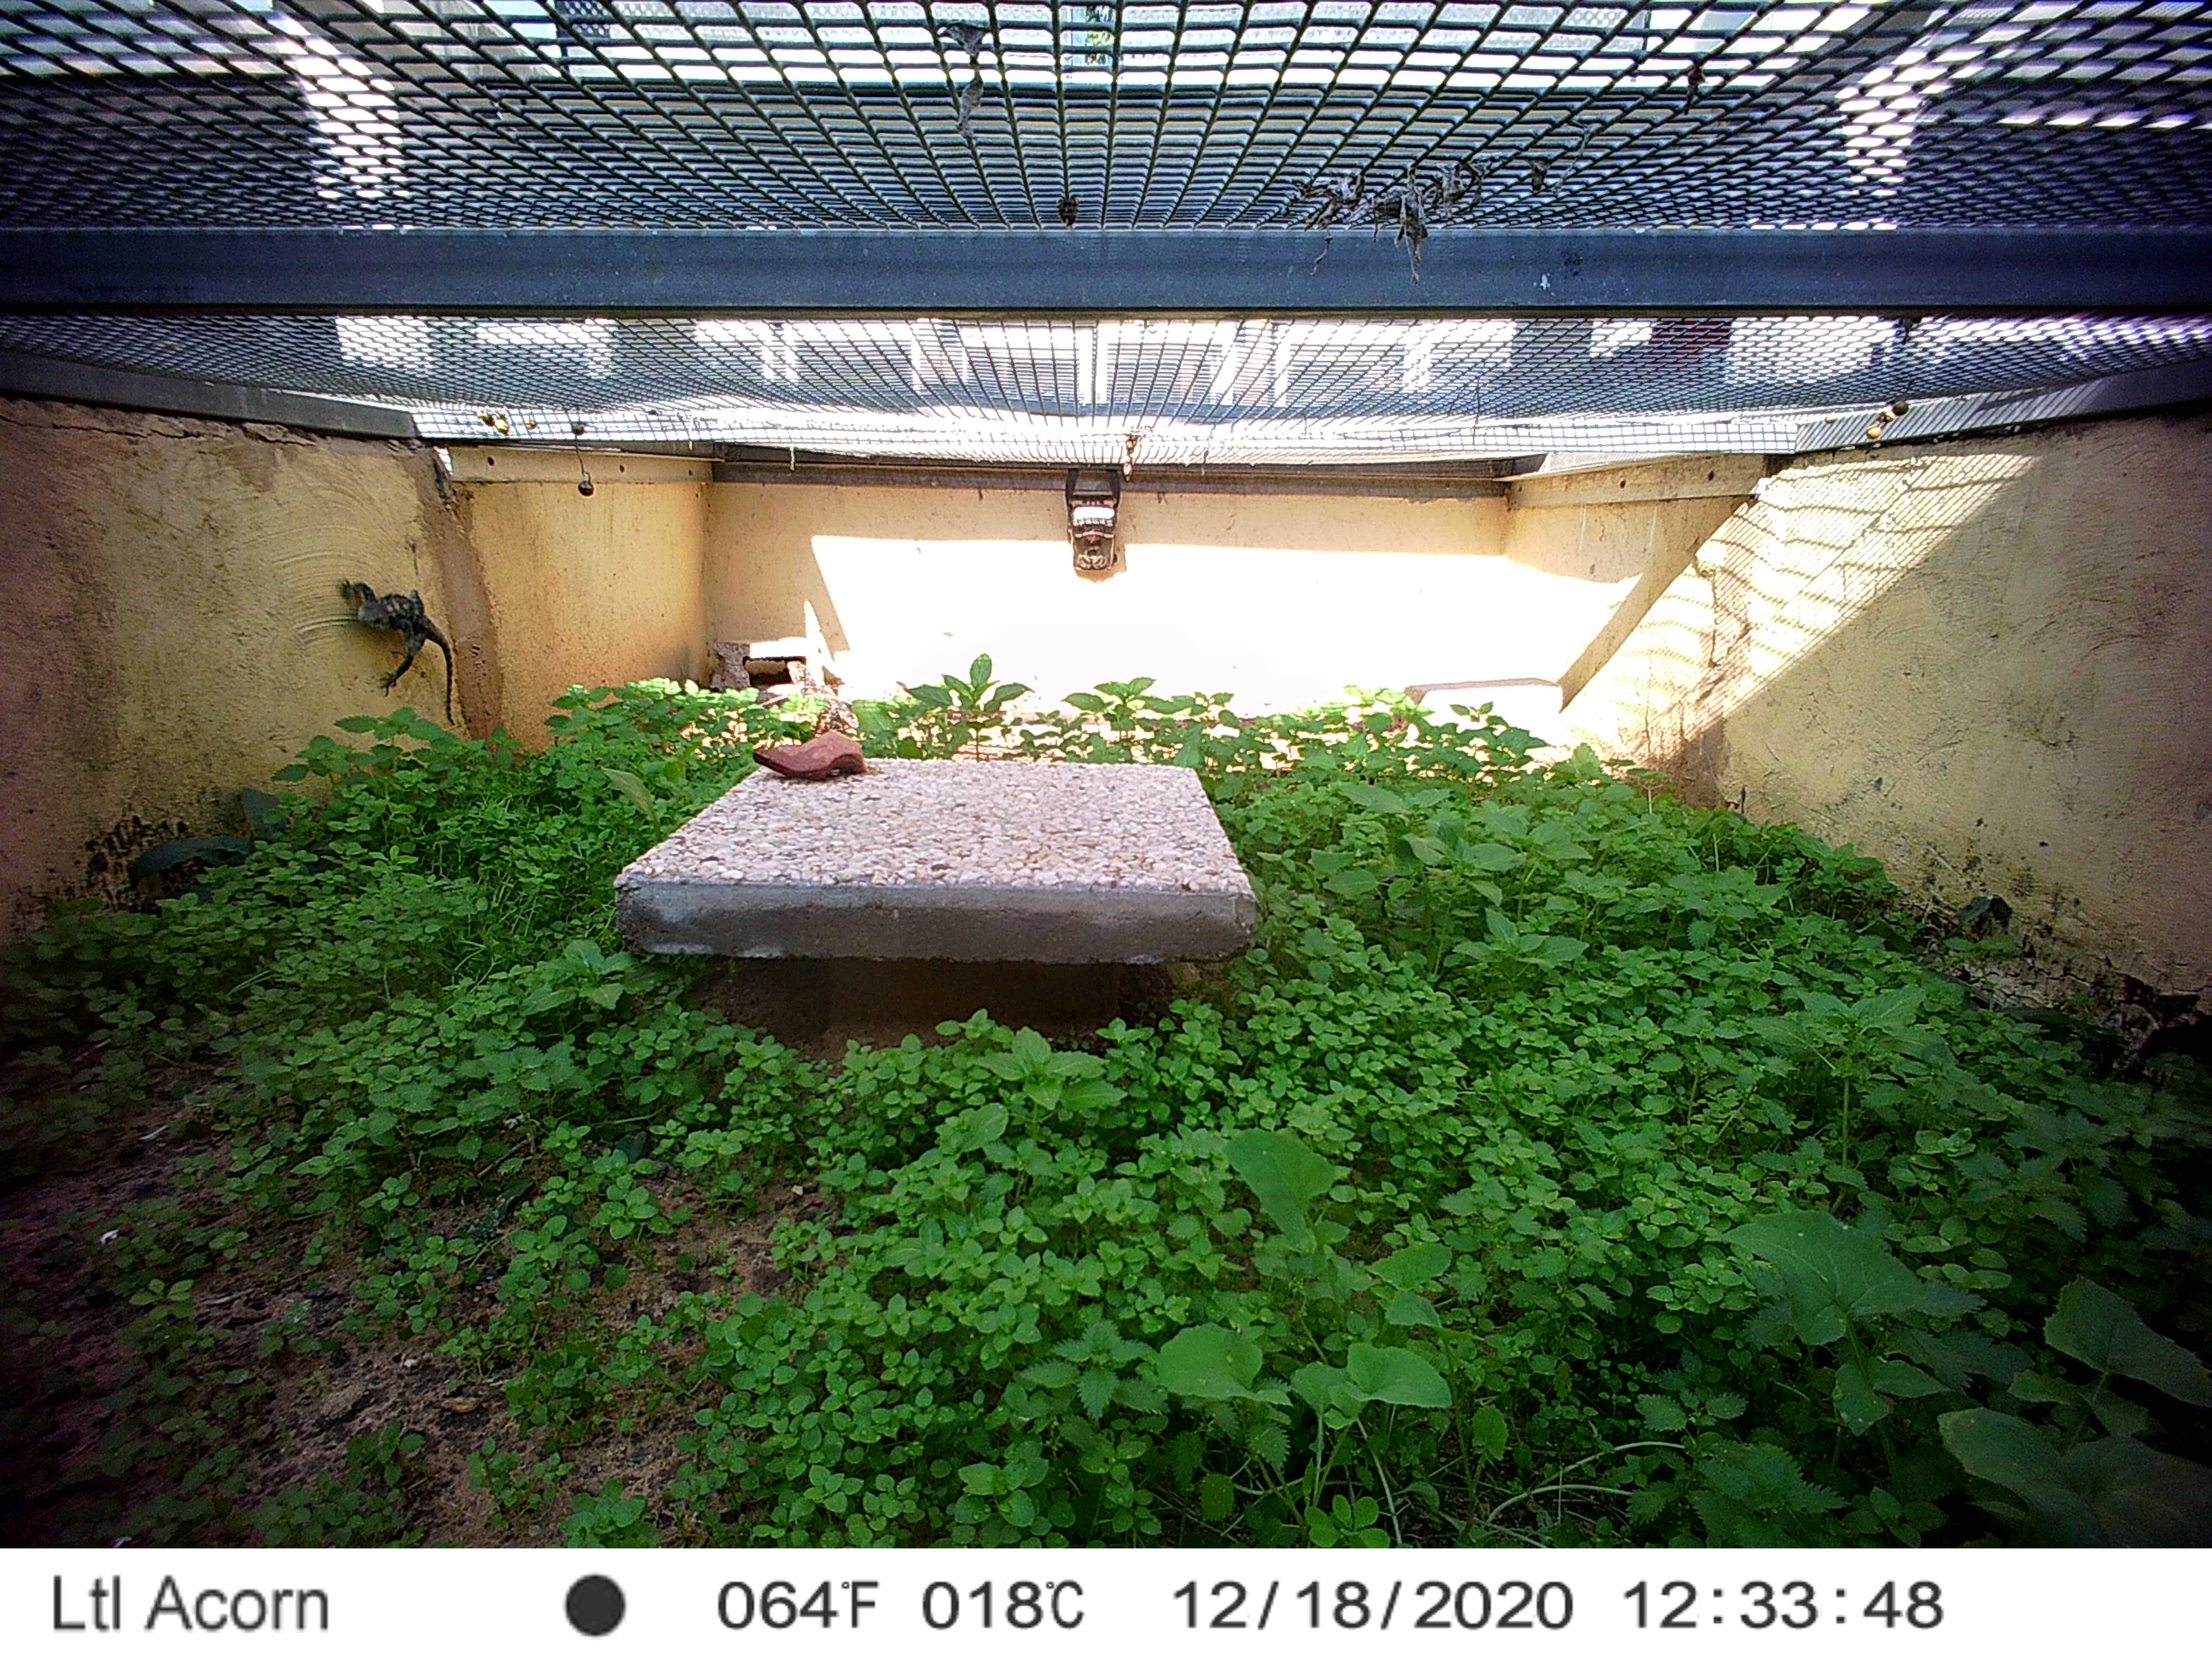lizard: (333, 573, 469, 730), (782, 657, 862, 735)
